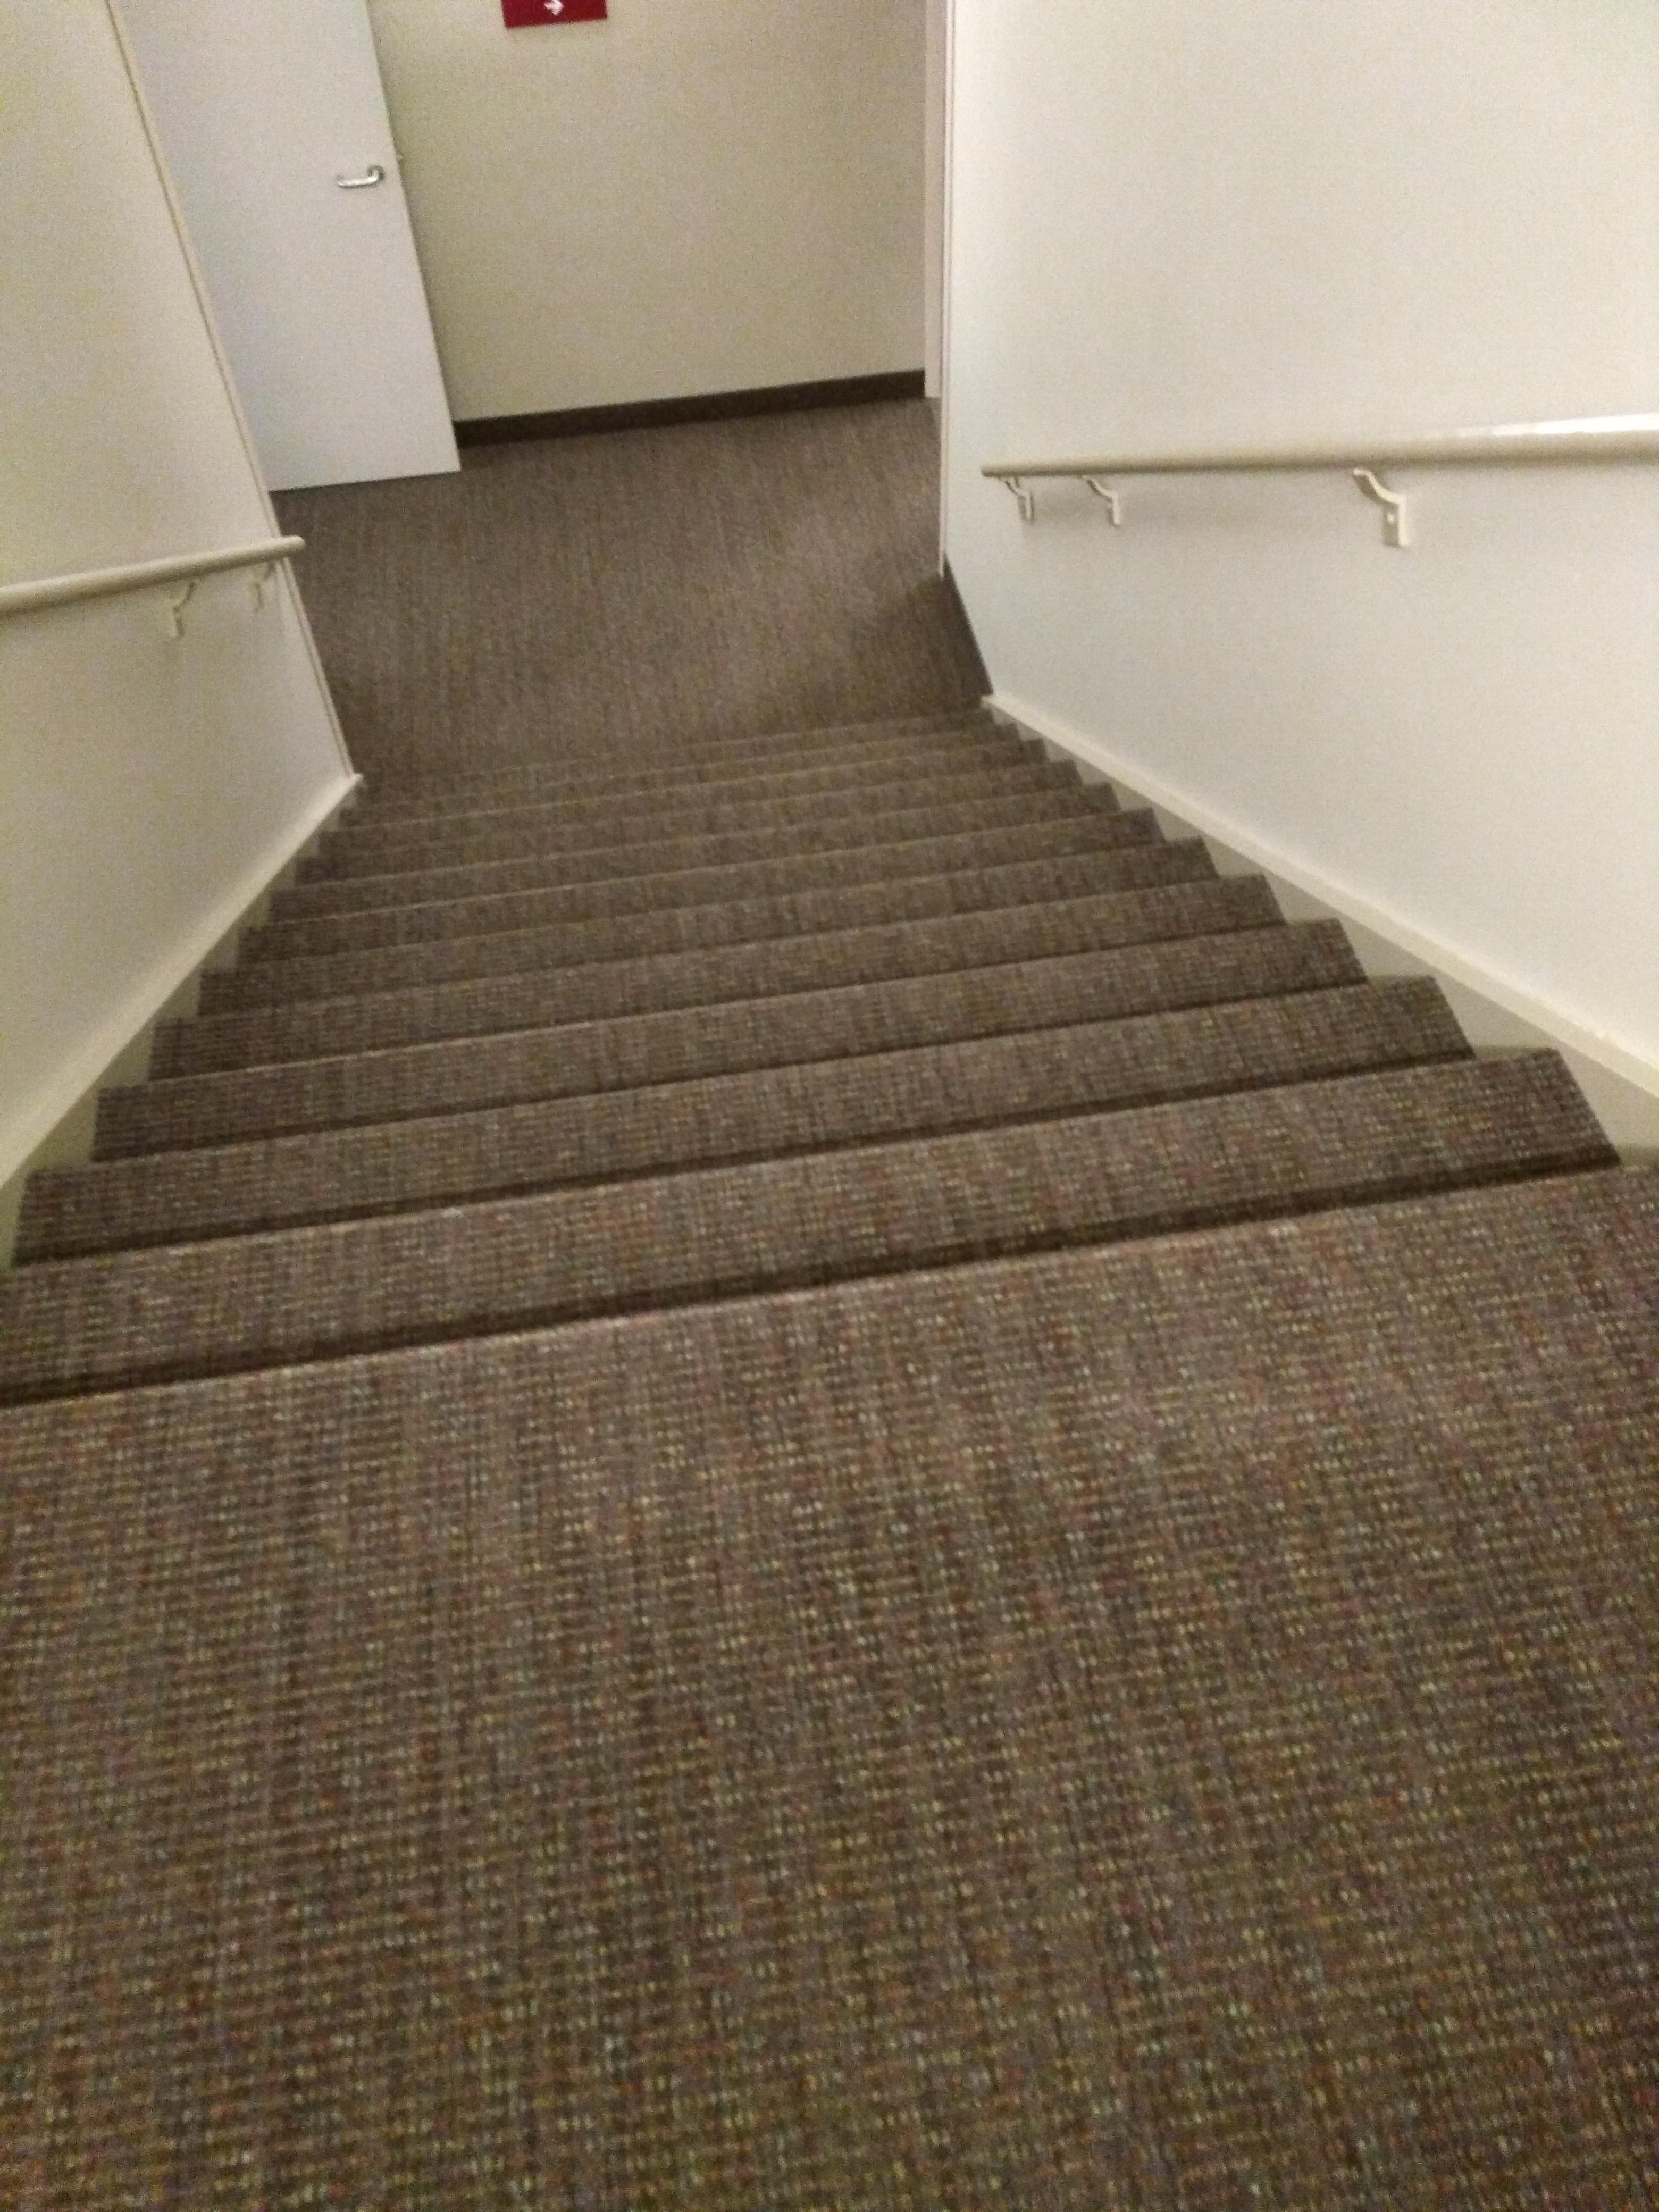stairs_down: (5, 704, 1659, 1439)
